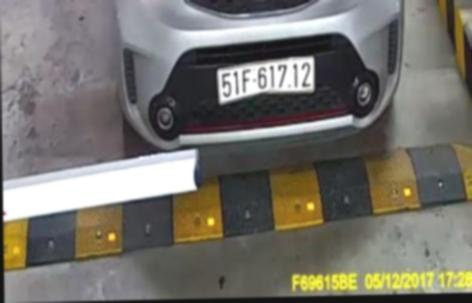License_Plate: (216, 50, 329, 111)
